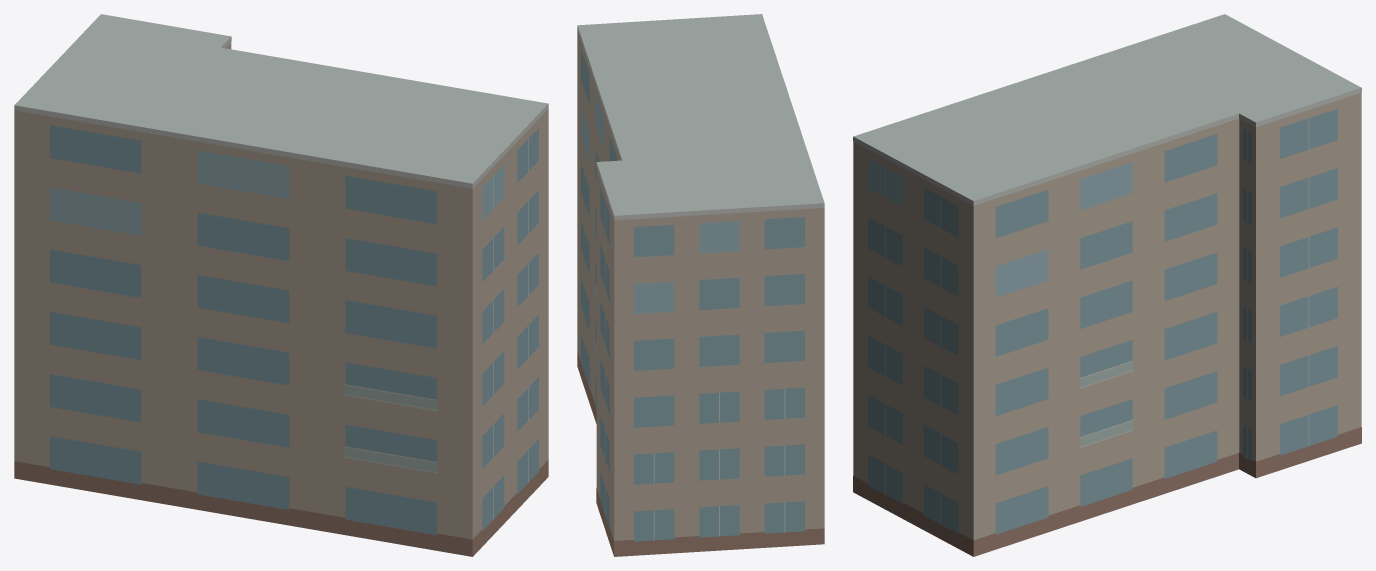
The model's file is survey-upis-32737146.glb.
3 renders of one model, left to right at view 1: azimuth 30°, elevation 25°; view 2: azimuth 150°, elevation 25°; view 3: azimuth 270°, elevation 25°, orthographic. The views are drawn at different scales.
Visible parts, largest first — view 1: survey-upis-32737146.tmp; view 2: survey-upis-32737146.tmp; view 3: survey-upis-32737146.tmp.
Boxes of the visible parts, x1,y1,x2,y2 form: survey-upis-32737146.tmp: (14, 14, 548, 556); survey-upis-32737146.tmp: (577, 14, 824, 556); survey-upis-32737146.tmp: (853, 14, 1361, 556).
Bounding box in the file's own units: 20.32 × 18 × 23.33.
